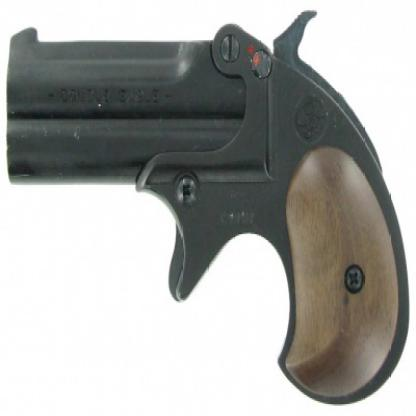Guns: (2, 6, 410, 414)
